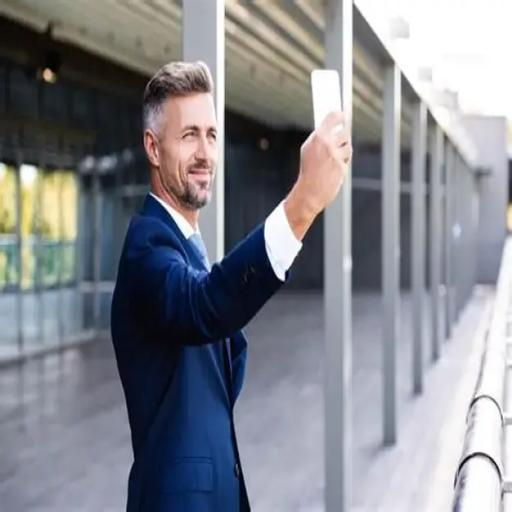person: (110, 59, 352, 512)
